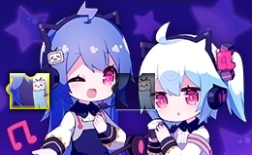gap: (112, 73, 155, 109)
